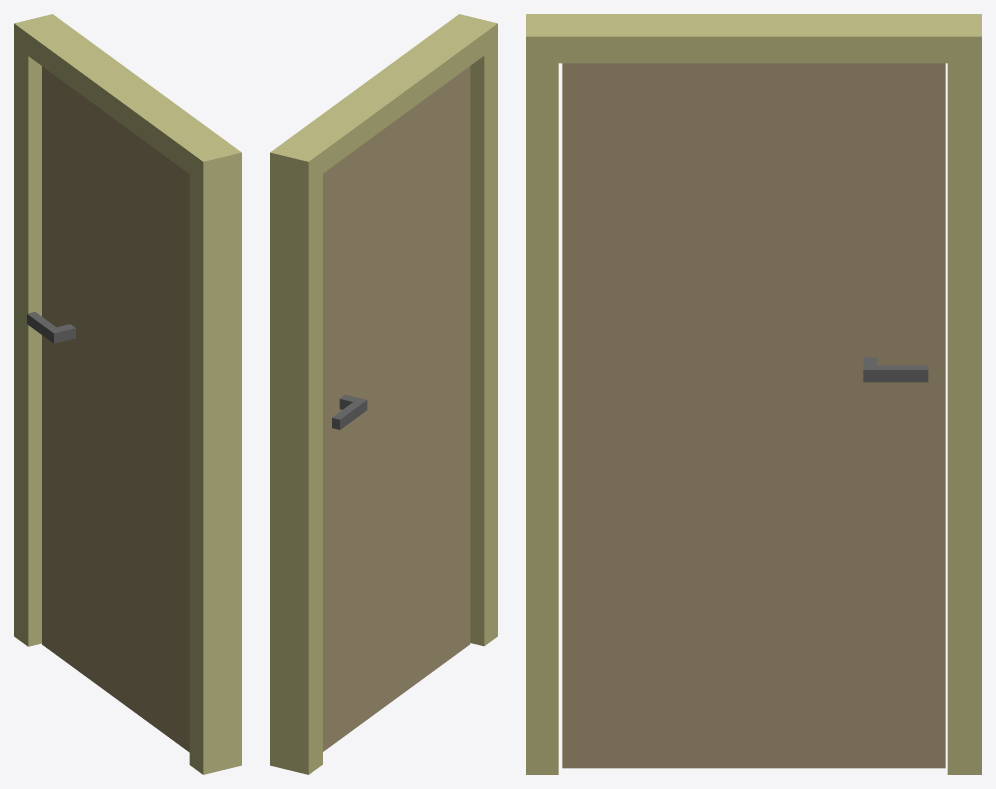
Rendered from door.fbx.
3 views of the same model, side by side, from view 1: azimuth 30°, elevation 25°; view 2: azimuth 150°, elevation 25°; view 3: azimuth 270°, elevation 25° (orthographic). The views are drawn at different scales.
Parts seen in each view (by area): view 1: door2; view 2: door2; view 3: door2.
Part boxes in pixels (left/top/right/bottom): door2: left=14, top=14, right=241, bottom=774; door2: left=270, top=14, right=497, bottom=774; door2: left=526, top=14, right=981, bottom=774.
Size of the model in its own units: 24.81 by 250 by 140.
